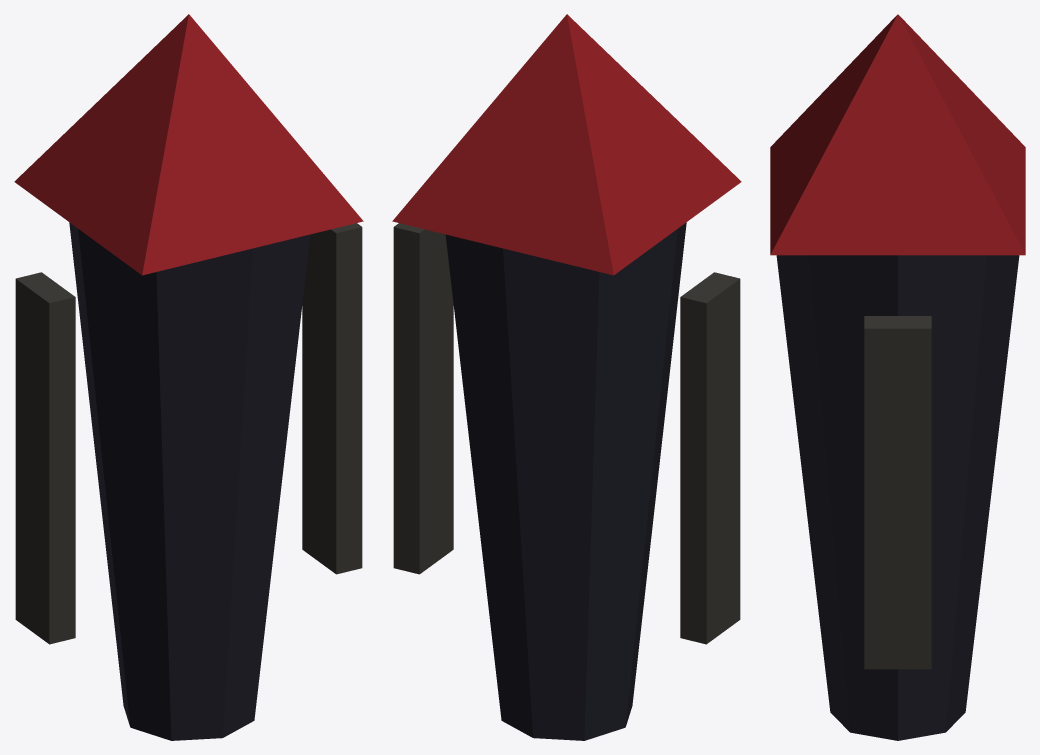
Rendered from stalker.obj.
3 views of the same model, side by side, from view 1: azimuth 30°, elevation 25°; view 2: azimuth 150°, elevation 25°; view 3: azimuth 270°, elevation 25° (orthographic).
Visible parts, largest first — view 1: stalker_body, stalker_hood, stalker_blade_l, stalker_blade_r; view 2: stalker_body, stalker_hood, stalker_blade_l, stalker_blade_r; view 3: stalker_body, stalker_hood, stalker_blade_r.
Part boxes in pixels (box(x1,y1,x2,y2)): stalker_body: box(69, 222, 310, 740); stalker_hood: box(14, 14, 363, 275); stalker_blade_l: box(15, 272, 75, 644); stalker_blade_r: box(302, 223, 362, 574); stalker_body: box(445, 222, 686, 740); stalker_hood: box(392, 14, 741, 275); stalker_blade_l: box(680, 272, 740, 644); stalker_blade_r: box(393, 223, 453, 574); stalker_body: box(776, 255, 1019, 740); stalker_hood: box(770, 14, 1025, 255); stalker_blade_r: box(864, 316, 931, 669).
Bounding box in the file's own units: 0.96 × 2.05 × 0.68.
